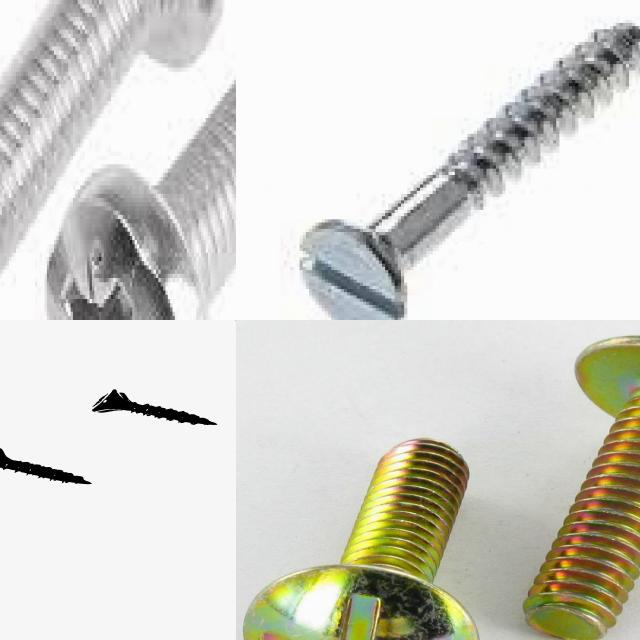Screw: (300, 23, 640, 320), (0, 0, 227, 287), (236, 428, 486, 640), (42, 82, 236, 320), (524, 335, 640, 640), (91, 390, 216, 425), (0, 449, 90, 484)
